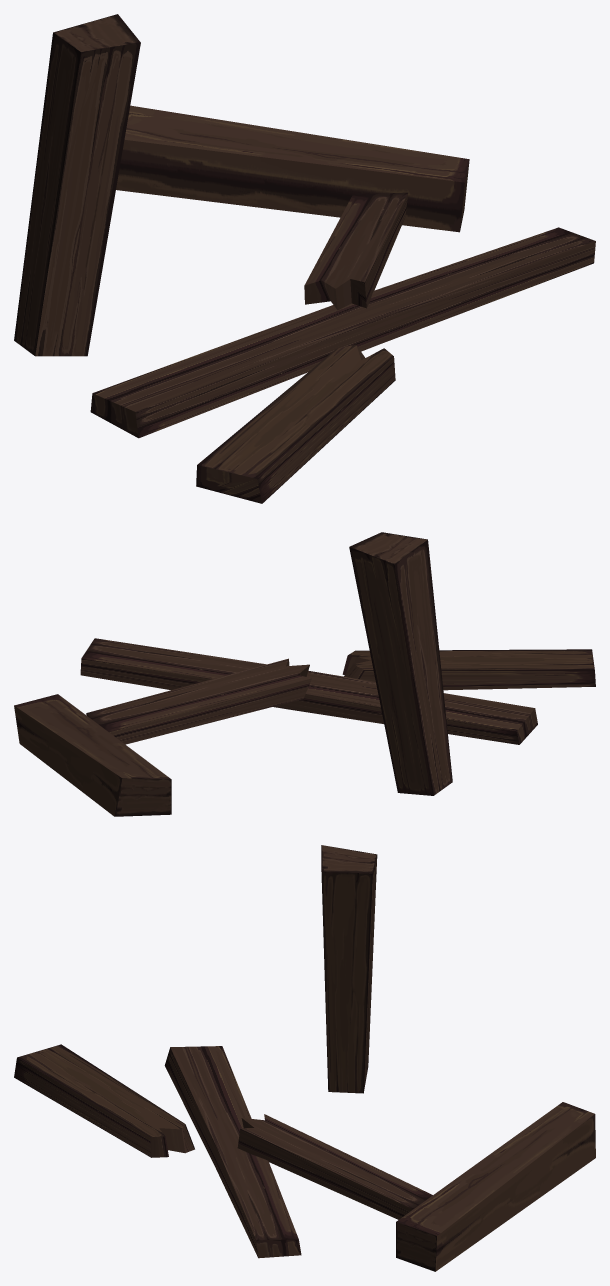
The model's file is SM_PROP_fence_battle_05.fbx.
The picture shows the model from 3 angles, top to bottom: view 1: azimuth 30°, elevation 25°; view 2: azimuth 150°, elevation 25°; view 3: azimuth 270°, elevation 25°; orthographic projection. The views are drawn at different scales.
Visible parts, largest first — view 1: SM_PROP_fence_battle_05; view 2: SM_PROP_fence_battle_05; view 3: SM_PROP_fence_battle_05.
Part boxes in pixels (box(x1,y1,x2,y2)): SM_PROP_fence_battle_05: box(14, 14, 595, 503); SM_PROP_fence_battle_05: box(14, 532, 595, 816); SM_PROP_fence_battle_05: box(14, 845, 595, 1271).
Bounding box in the file's own units: 195 × 114 × 238.
